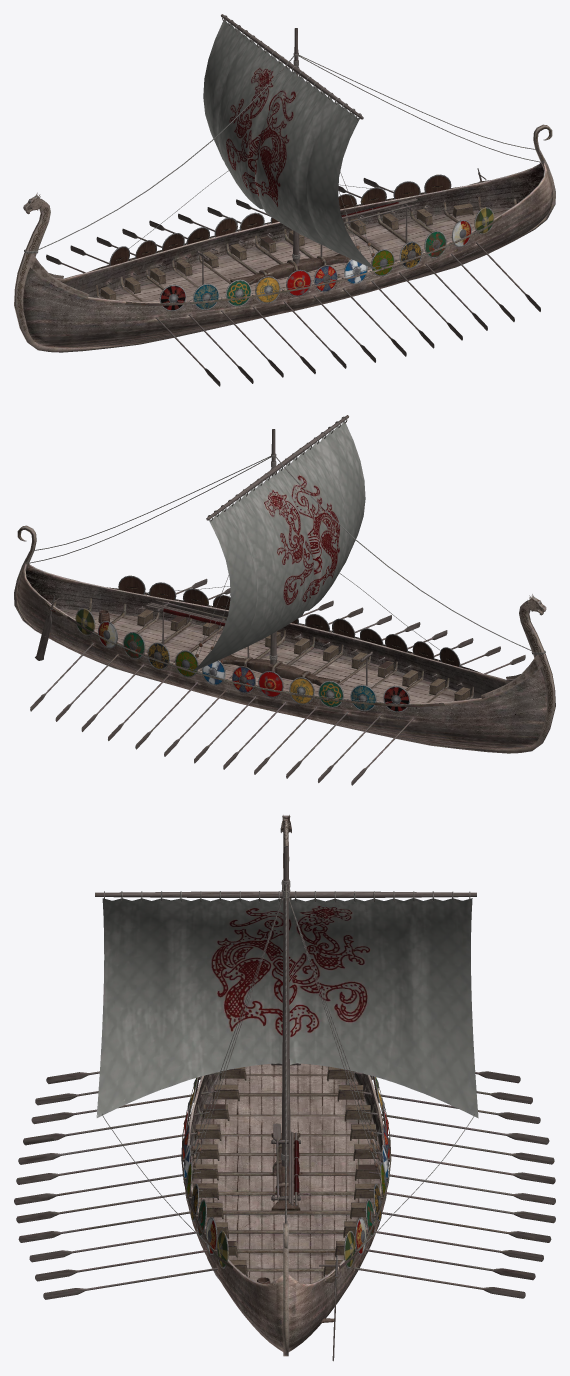
File: drakkar_de_berk.glb
3 views of the same model, one above another, from view 1: azimuth 30°, elevation 25°; view 2: azimuth 150°, elevation 25°; view 3: azimuth 270°, elevation 25° (orthographic). The views are drawn at different scales.
Parts seen in each view (by area): view 1: defaultMaterial (×12); view 2: defaultMaterial (×12); view 3: defaultMaterial (×11).
Part boxes in pixels (x1,y1,x2,y2): defaultMaterial (×12): (14,14,555,386); defaultMaterial (×12): (14,415,555,785); defaultMaterial (×11): (14,815,555,1361).
Bounding box in the file's own units: 2 × 0.9894 × 1.28.
Materials: 13 (13 with a texture image).
